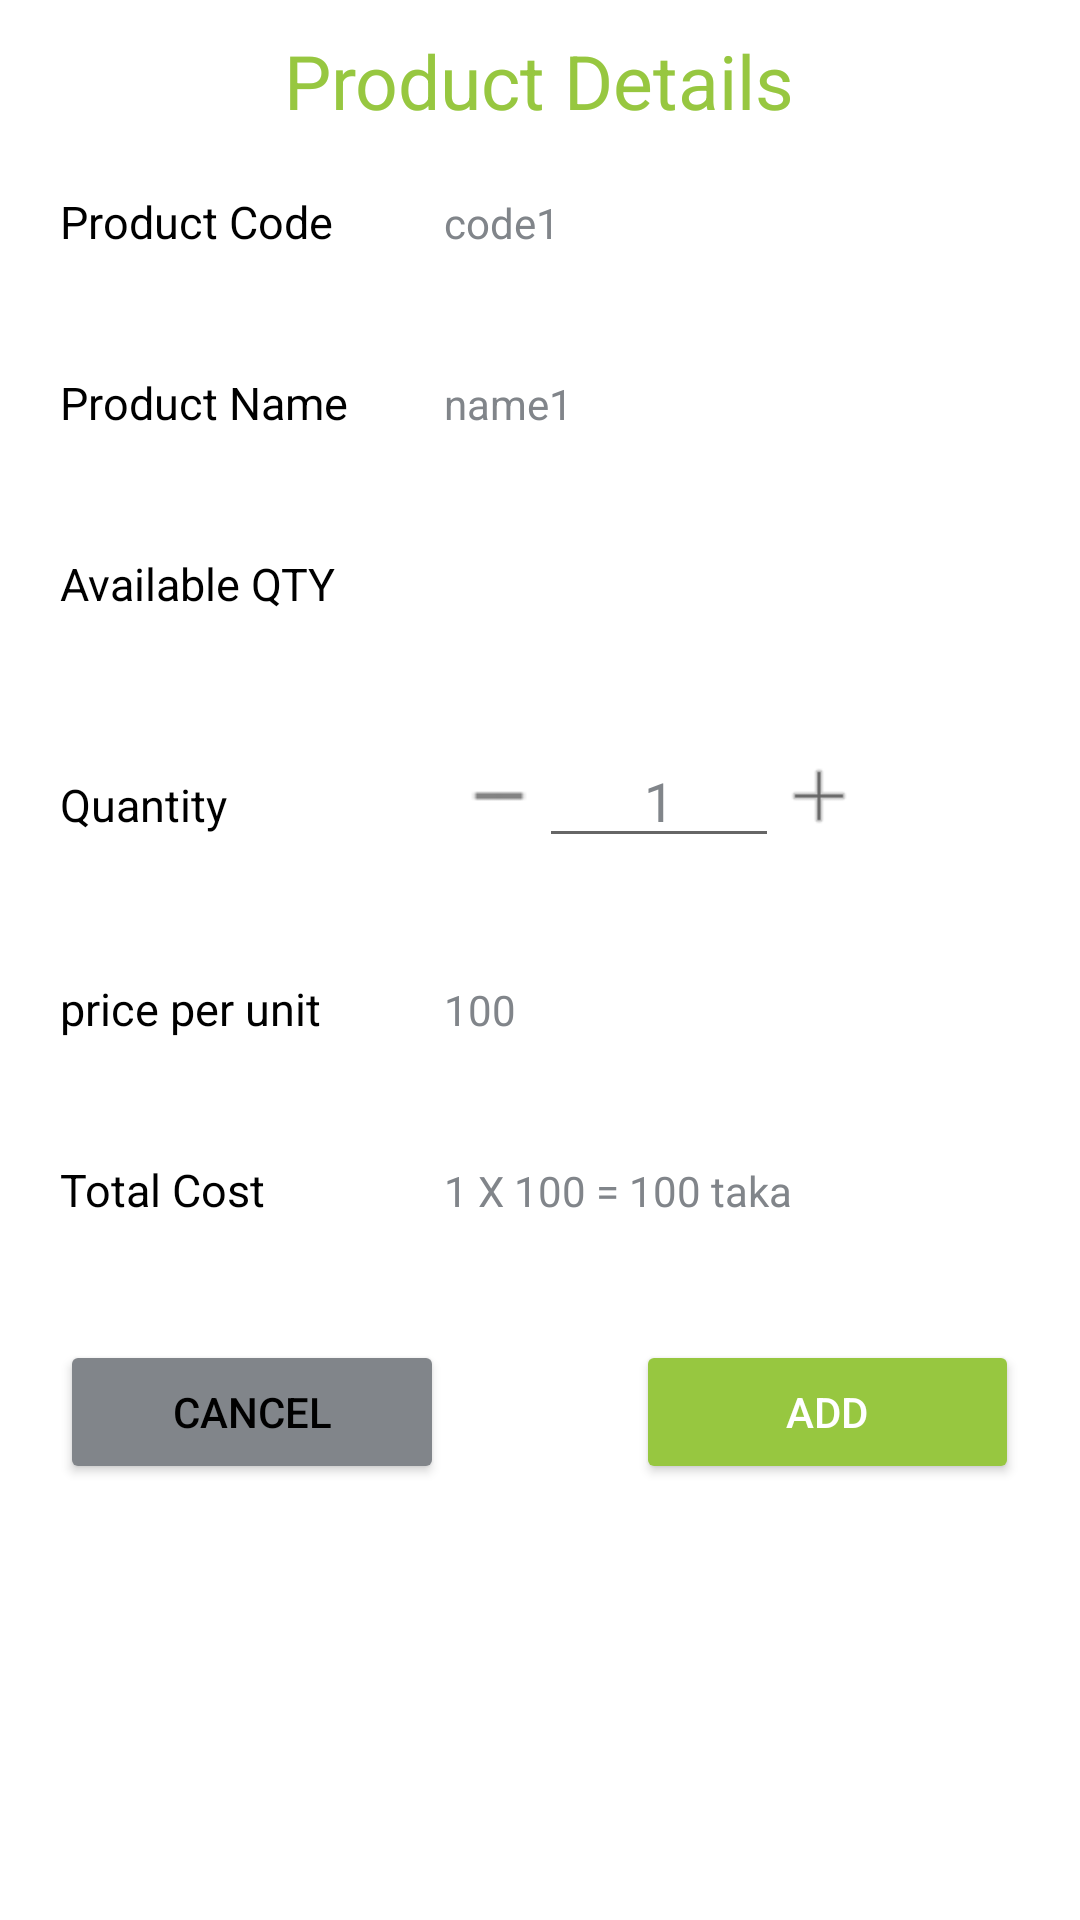

Screen size 1080×1920. Icon name, then its center in pixels as (x=x, y=y):
plus: (x=819, y=796)
